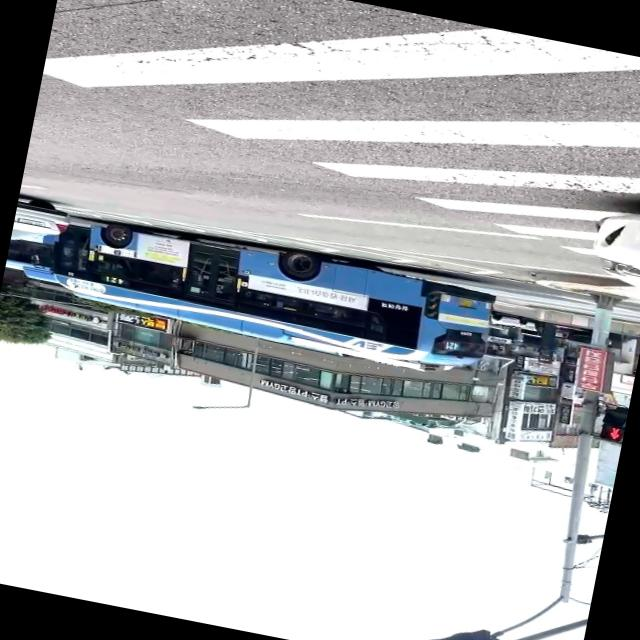building: (134, 316, 492, 444)
car: (48, 216, 494, 374), (584, 199, 640, 293), (11, 195, 74, 250)
